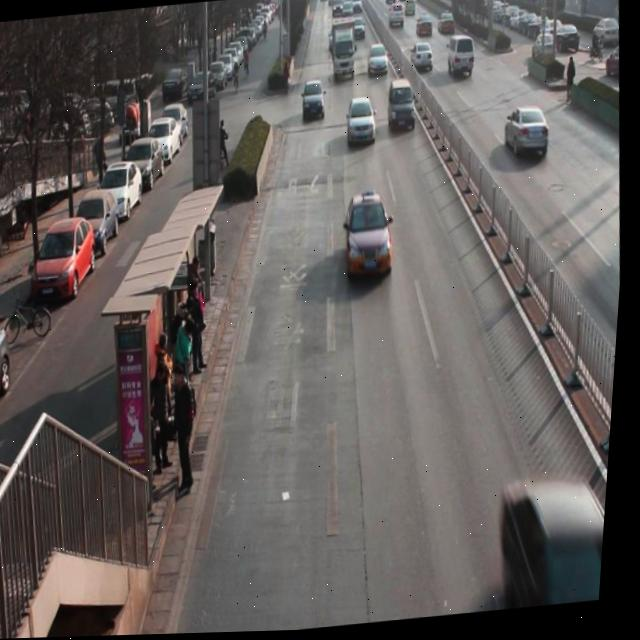bus: (329, 22, 361, 86)
car: (500, 473, 614, 613), (341, 194, 402, 283), (503, 107, 554, 167), (386, 82, 421, 134), (345, 97, 380, 148), (301, 82, 329, 124), (410, 43, 439, 78), (368, 44, 393, 82), (415, 15, 435, 40), (439, 12, 457, 37), (352, 16, 368, 44)
truck: (446, 38, 478, 82)
